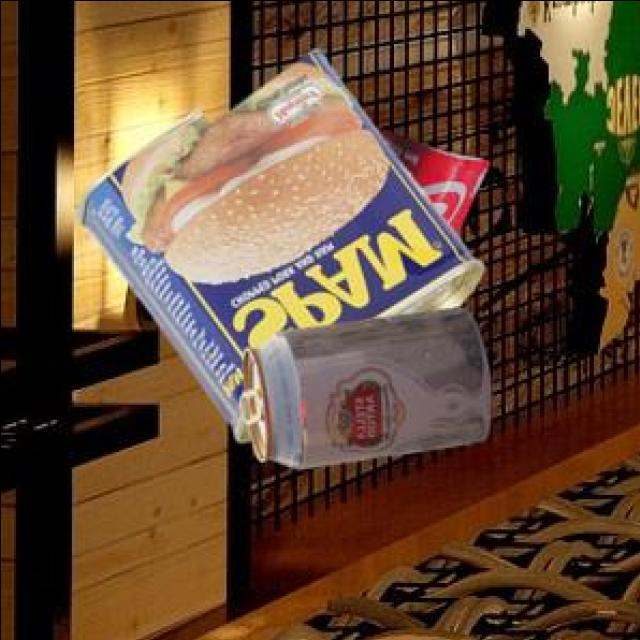logam: (72, 53, 480, 443), (235, 310, 486, 471), (373, 132, 486, 237)
